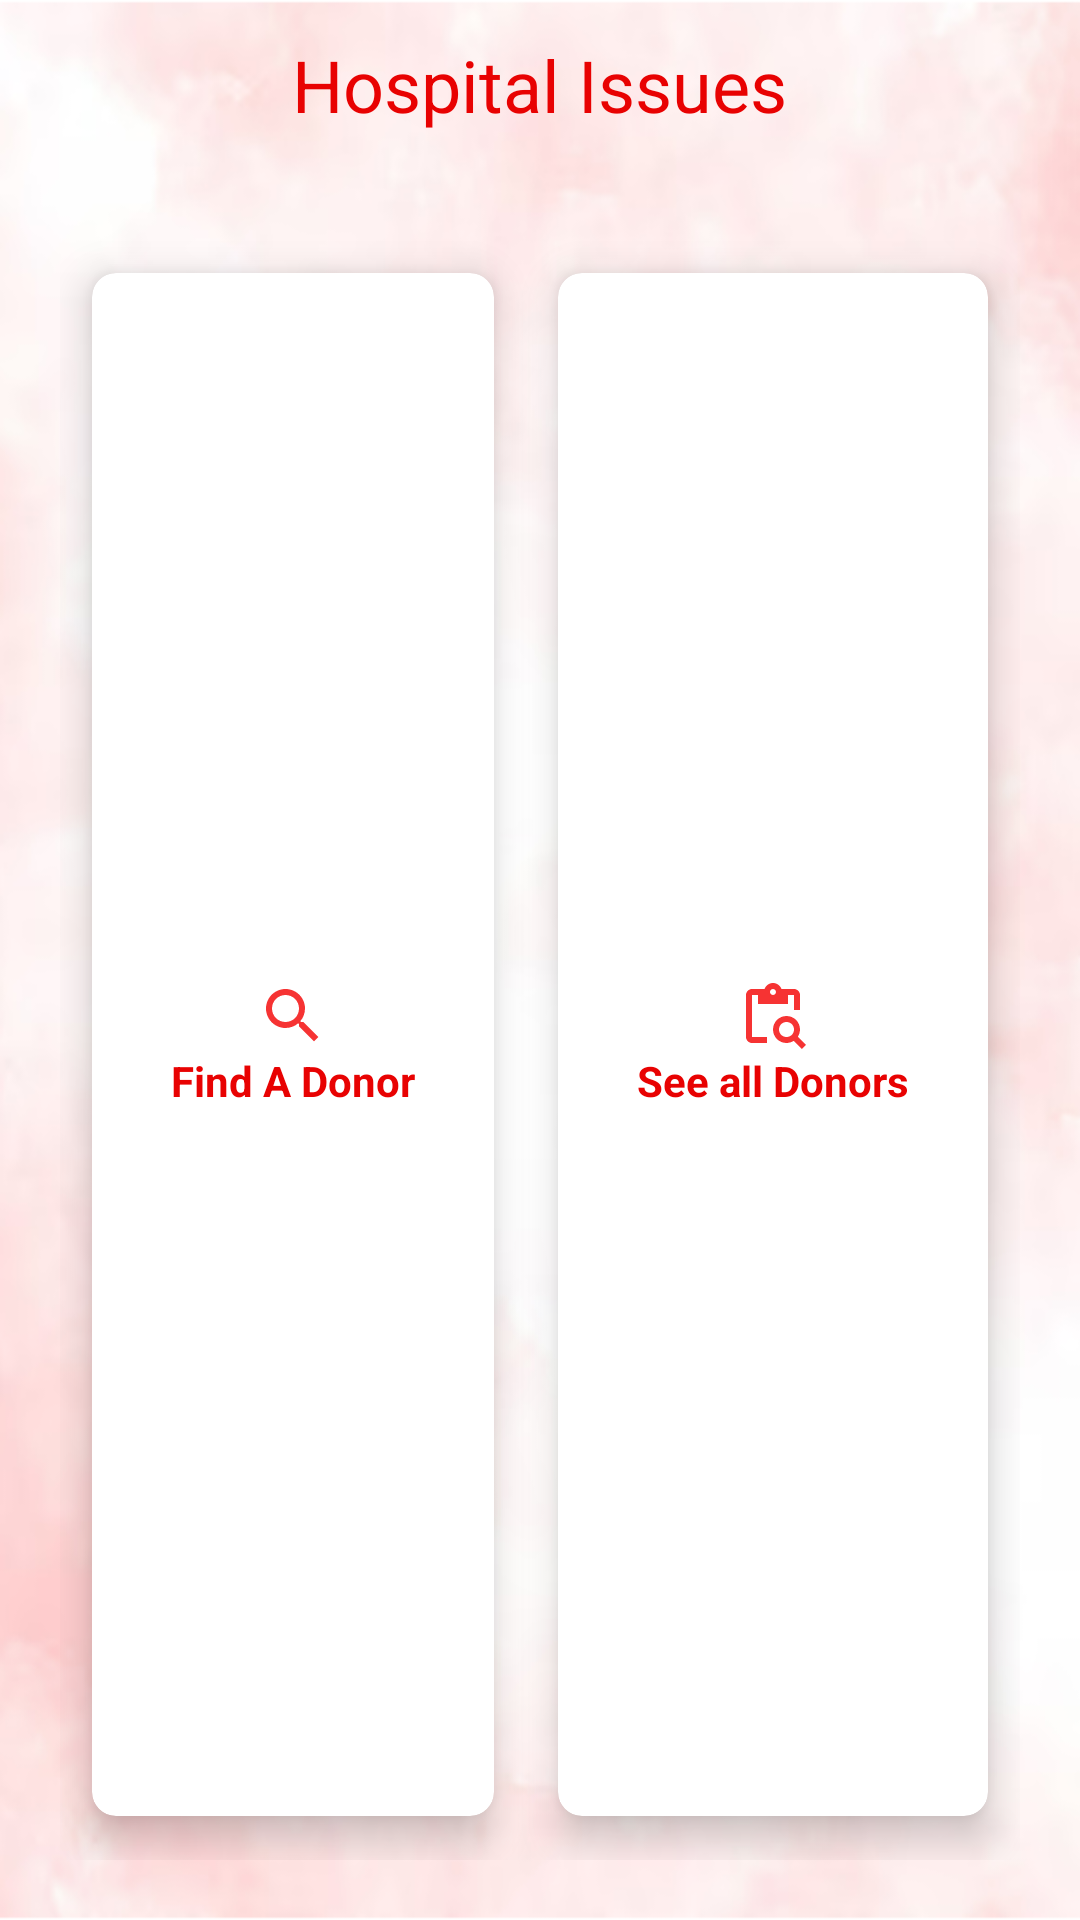

Screen size 1080 × 1920. Icon name, then its center in pixels as (x=x, y=y):
content paste search: (x=776, y=1016)
searching: (x=292, y=1015)
